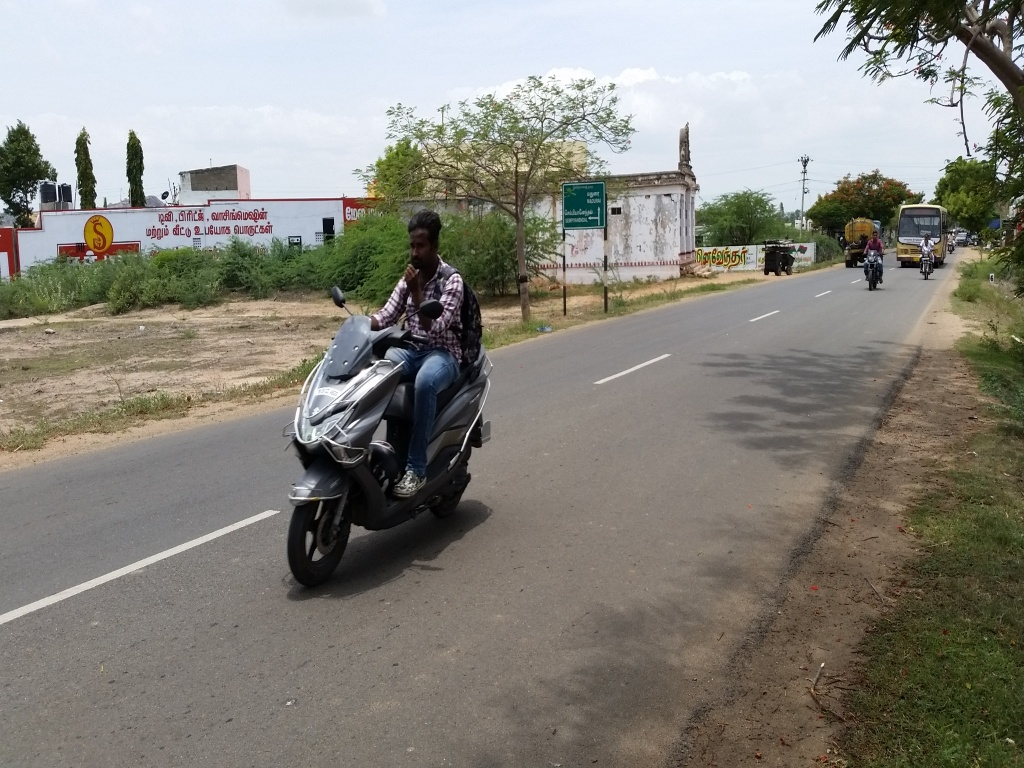biker: (274, 176, 506, 598)
nohelmet: (400, 200, 452, 283)
